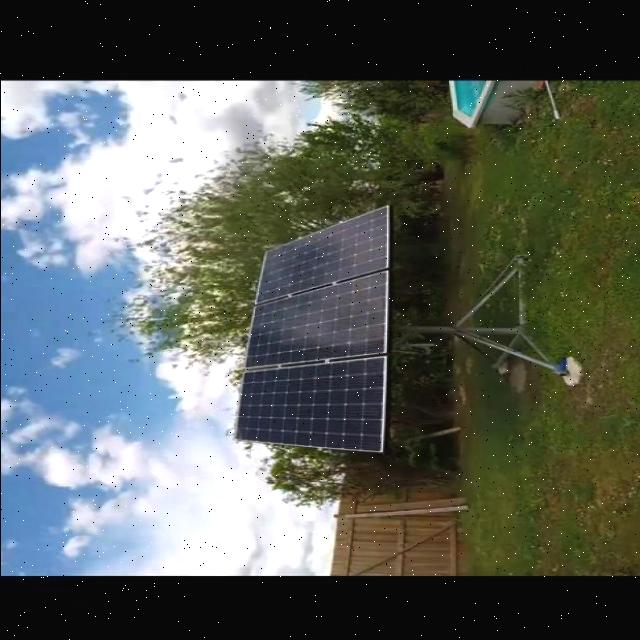Normal Solar Panel: (238, 357, 384, 452), (246, 272, 390, 368), (255, 205, 389, 304)
